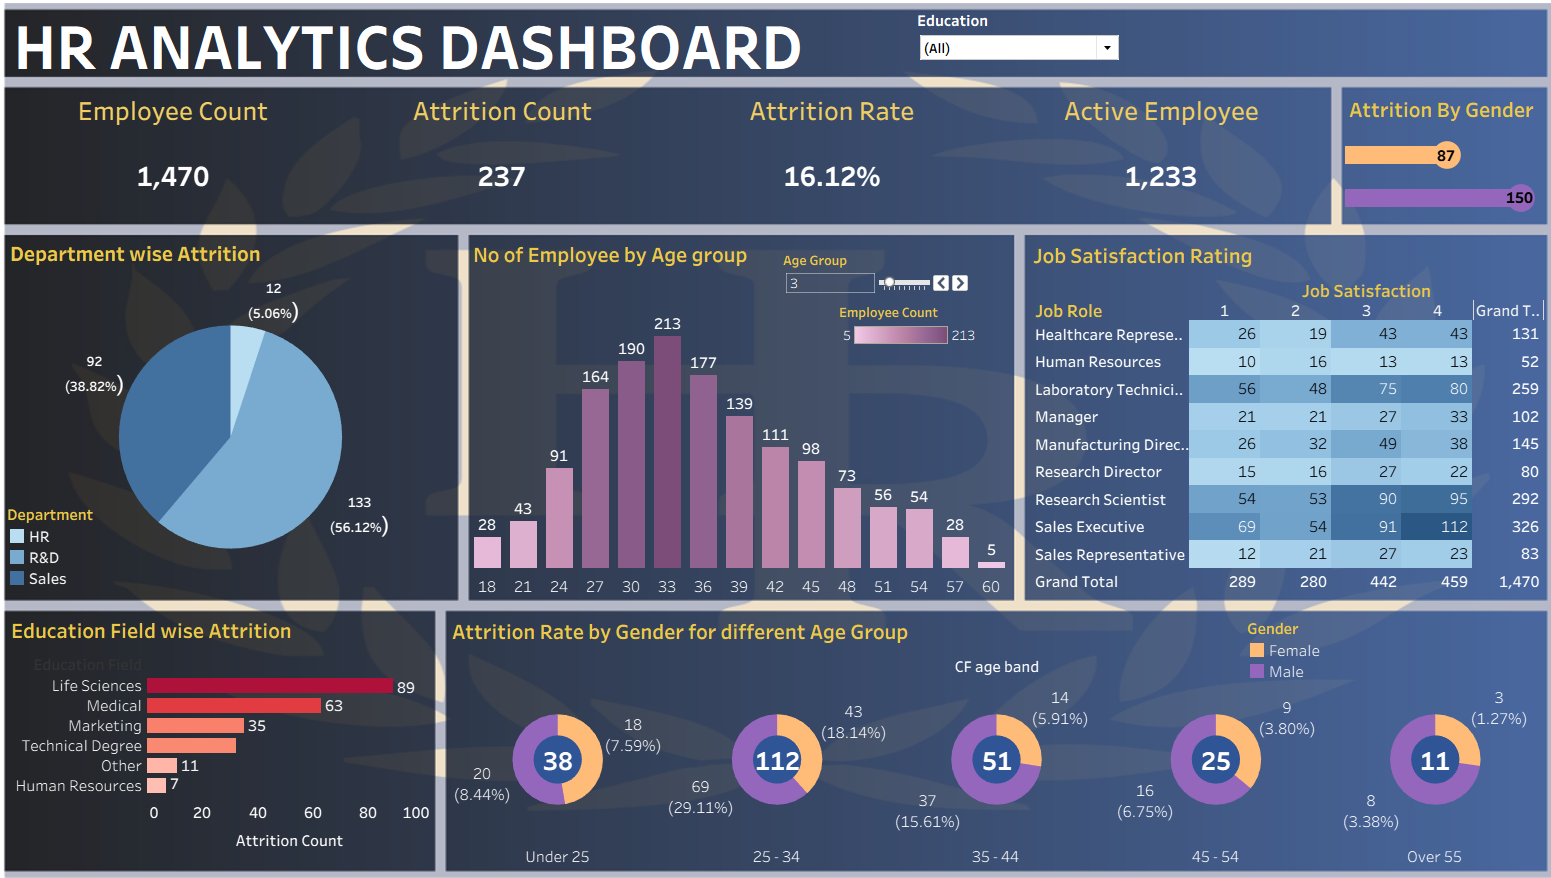

The page's visual inventory and layout, read from the dashboard file:
{"tool":"tableau","page":{"name":"Dashboard 1","canvas":[1580,900],"ordinal":0},"visuals":[{"type":"image","param":"Image/HR background.pptx.png","box":[8,8,1564,884]},{"type":"filter","title":"Department wise Attrition","param":"[federated.0p465ts0zklgt712d7q6l18npd4j].[none:Education:nk]","box":[931,19,205,60]},{"type":"text","box":[24,24,861,58]},{"type":"worksheet","title":"KPI","mark":"Automatic","box":[22,97,1318,135]},{"type":"worksheet","title":"Attrition By Gender","mark":"Automatic","rows":["Gender"],"cols":["Calculation_442197219896832000","Calculation_442197219896832000"],"box":[1359,100,199,128]},{"type":"worksheet","title":"Department wise Attrition","mark":"Pie","box":[20,244,449,362]},{"type":"worksheet","title":"No of Employee by Age group","mark":"Automatic","rows":["Employee Count"],"cols":["Age (bin)"],"box":[483,245,540,362]},{"type":"worksheet","title":"Job Satisfaction Rating","mark":"Square","rows":["Job Role"],"cols":["Job Satisfaction"],"box":[1043,246,515,358]},{"type":"parameter","param":"[Parameters].[Parameter 1]","box":[797,260,188,47]},{"type":"legend","title":"No of Employee by Age group","param":"[federated.0p465ts0zklgt712d7q6l18npd4j].[sum:Employee Count:qk]","box":[853,312,141,46]},{"type":"legend","title":"Department wise Attrition","param":"[federated.0p465ts0zklgt712d7q6l18npd4j].[none:Department:nk]","box":[21,513,104,89]},{"type":"worksheet","title":"Education Field wise Attrition","mark":"Automatic","rows":["Education Field"],"cols":["Calculation_442197219896832000"],"box":[21,621,425,260]},{"type":"worksheet","title":"Attrition Rate by Gender for different Age Group","mark":"Pie","rows":["Calculation_342555078837874689","Calculation_342555078837874689"],"cols":["CF_age band"],"box":[462,622,1097,255]},{"type":"legend","title":"Attrition Rate by Gender for different Age Group","param":"[federated.0p465ts0zklgt712d7q6l18npd4j].[none:Gender:nk]","box":[1261,627,140,64]}]}

Visuals, with their boxes in screenshot pixels (x1, y1, x2, y2), scaled from the page's 1580x900 canvas onto the 1551x878 screenshot:
image: [x1=8, y1=8, x2=1543, y2=870]
"Department wise Attrition" filter: [x1=914, y1=19, x2=1115, y2=77]
text: [x1=24, y1=23, x2=869, y2=80]
"KPI" worksheet: [x1=22, y1=95, x2=1315, y2=226]
"Attrition By Gender" worksheet: [x1=1334, y1=98, x2=1529, y2=222]
"Department wise Attrition" worksheet (Pie marks): [x1=20, y1=238, x2=460, y2=591]
"No of Employee by Age group" worksheet: [x1=474, y1=239, x2=1004, y2=592]
"Job Satisfaction Rating" worksheet (Square marks): [x1=1024, y1=240, x2=1529, y2=589]
parameter: [x1=782, y1=254, x2=967, y2=299]
"No of Employee by Age group" legend: [x1=837, y1=304, x2=976, y2=349]
"Department wise Attrition" legend: [x1=21, y1=500, x2=123, y2=587]
"Education Field wise Attrition" worksheet: [x1=21, y1=606, x2=438, y2=859]
"Attrition Rate by Gender for different Age Group" worksheet (Pie marks): [x1=454, y1=607, x2=1530, y2=856]
"Attrition Rate by Gender for different Age Group" legend: [x1=1238, y1=612, x2=1375, y2=674]
